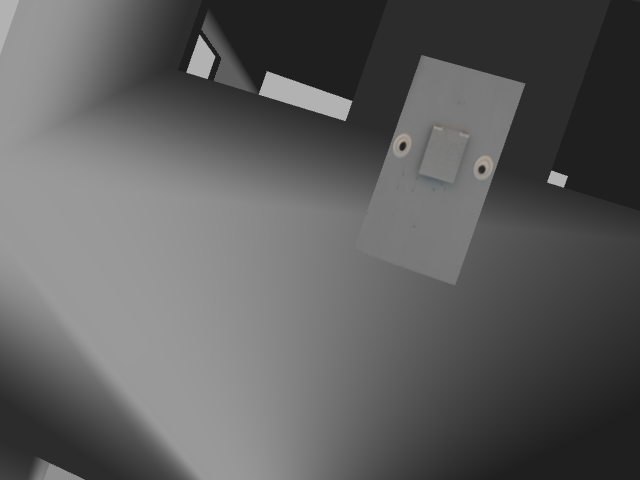facade: (389, 122, 495, 194)
